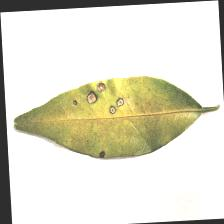canker: (64, 81, 130, 164)
